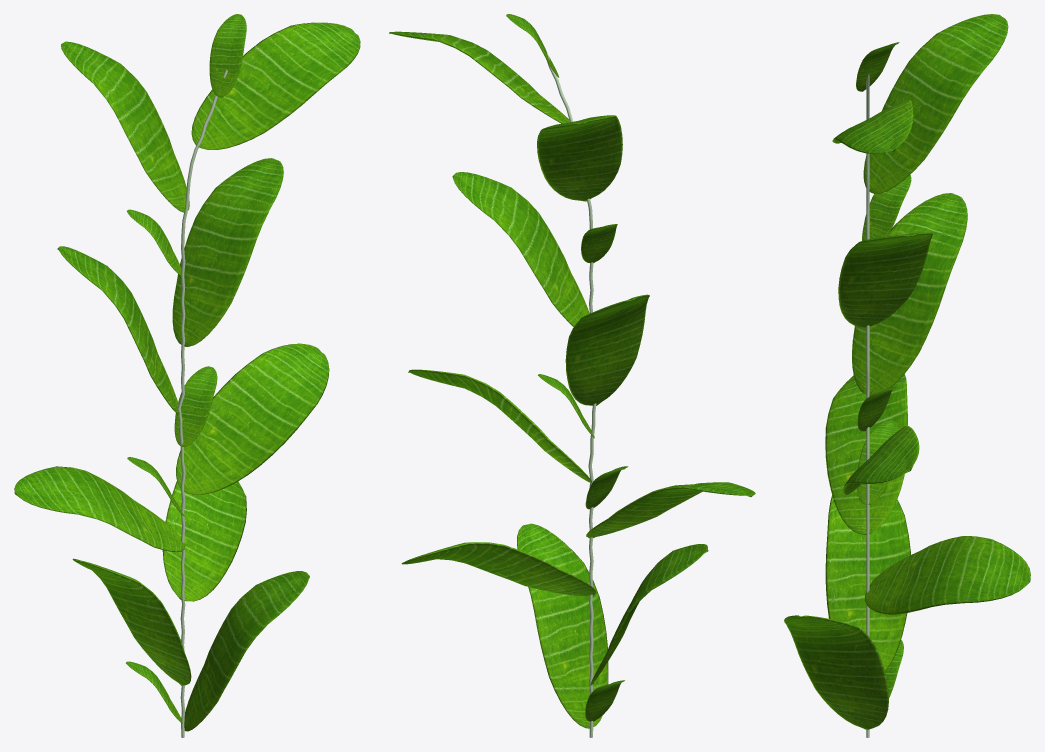
File: Plant 1.fbx
The picture shows the model from 3 angles, left to right: view 1: azimuth 30°, elevation 25°; view 2: azimuth 150°, elevation 25°; view 3: azimuth 270°, elevation 25°; orthographic projection. The views are drawn at different scales.
Visible parts, largest first — view 1: pasted__group9_pasted__pasted__group4_pasted__pasted__pasted; view 2: pasted__group9_pasted__pasted__group4_pasted__pasted__pasted; view 3: pasted__group9_pasted__pasted__group4_pasted__pasted__pasted.
Part boxes in pixels (box(x1,y1,x2,y2)): pasted__group9_pasted__pasted__group4_pasted__pasted__pasted: box(14, 14, 360, 737); pasted__group9_pasted__pasted__group4_pasted__pasted__pasted: box(389, 14, 755, 737); pasted__group9_pasted__pasted__group4_pasted__pasted__pasted: box(784, 14, 1030, 737).
Bounding box in the file's own units: 9.5 × 18.21 × 5.59.
2 materials, 2 textured.
